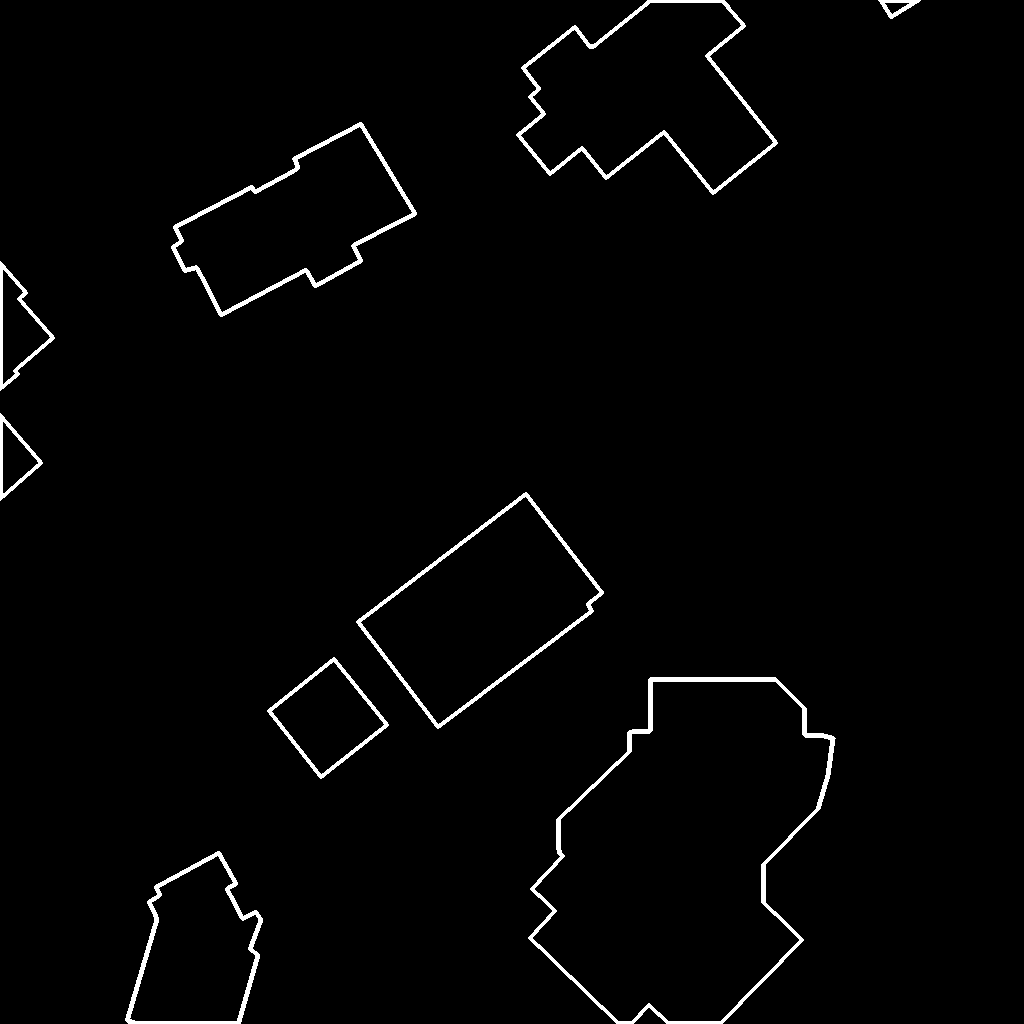building: (530, 679, 834, 1024), (358, 494, 603, 728), (518, 0, 777, 194), (173, 124, 416, 316), (127, 853, 262, 1024), (269, 659, 388, 778), (0, 263, 54, 500), (880, 0, 920, 18)
